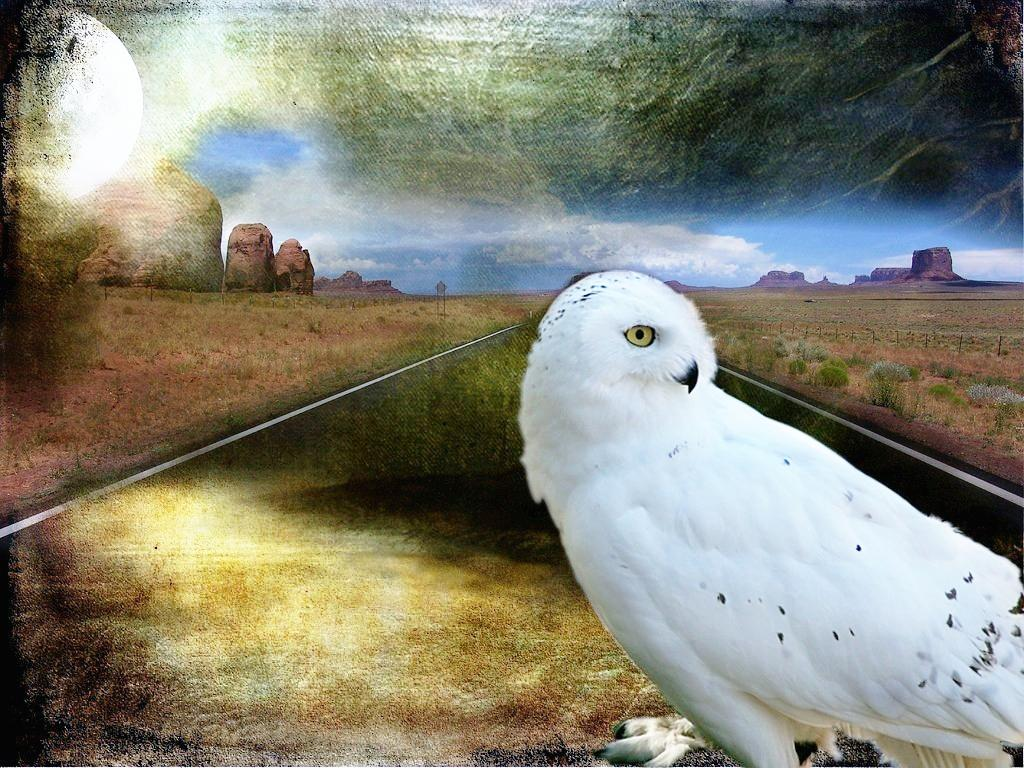Owl: (515, 264, 1023, 767)
